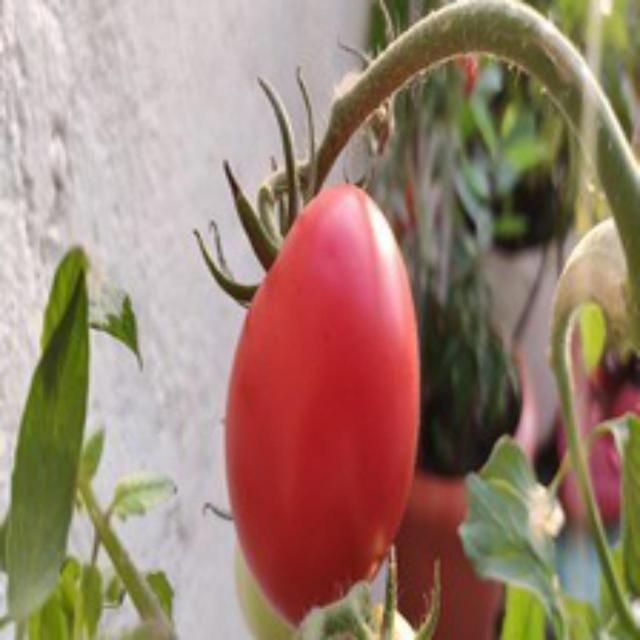tomato: (219, 179, 421, 616)
